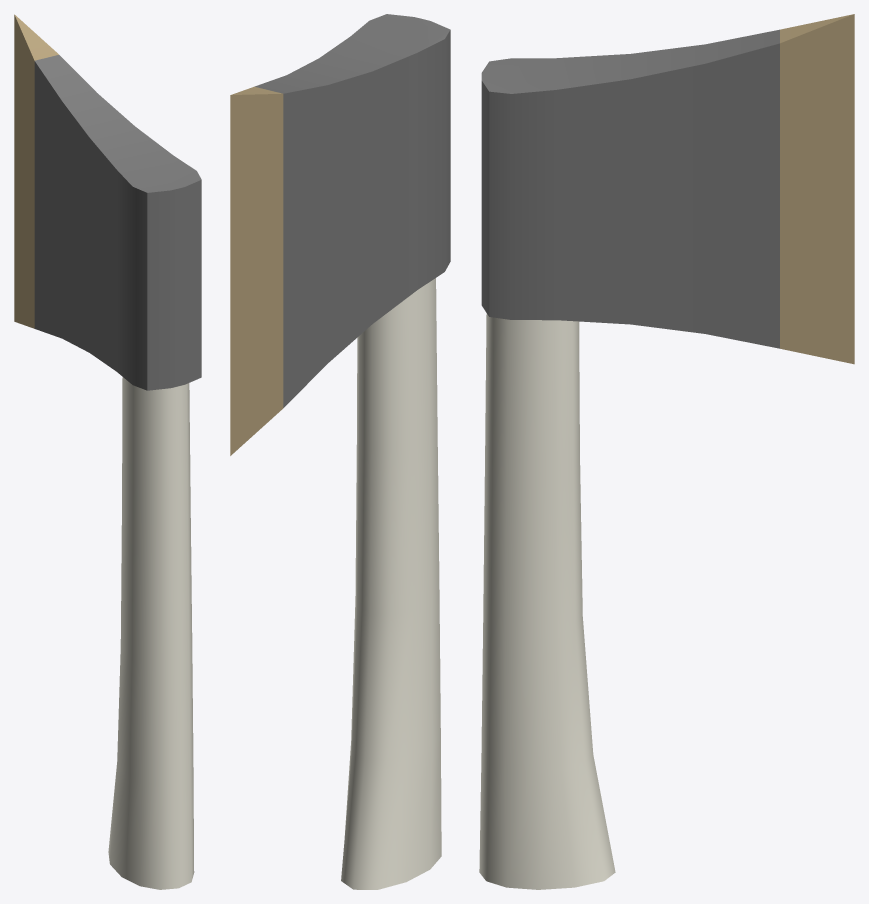
File: Hacha.FBX
The picture shows the model from 3 angles, left to right: view 1: azimuth 30°, elevation 25°; view 2: azimuth 150°, elevation 25°; view 3: azimuth 270°, elevation 25°; orthographic projection. The views are drawn at different scales.
Visible parts, largest first — view 1: Hacha; view 2: Hacha; view 3: Hacha.
Boxes of the visible parts, x1=… form: Hacha: x1=14, y1=14, x2=201, y2=889; Hacha: x1=230, y1=14, x2=450, y2=889; Hacha: x1=479, y1=14, x2=854, y2=889.
Size of the model in its own units: 3.4 by 38.11 by 15.09.
